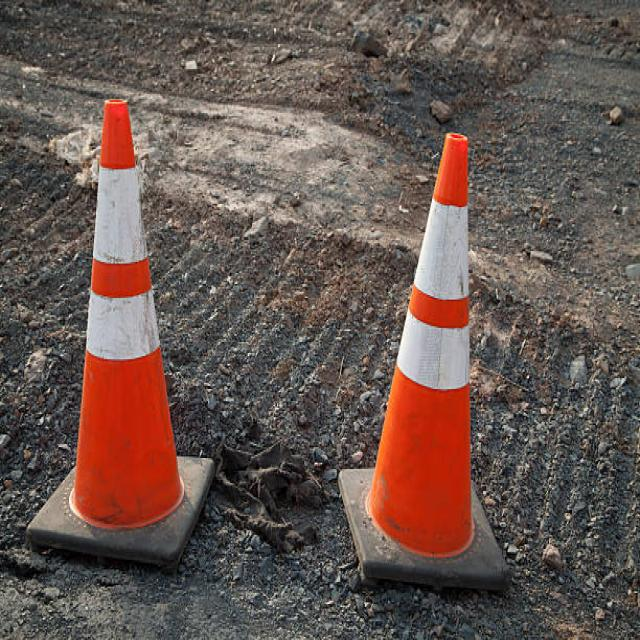Traffic Cone: (2, 54, 238, 608), (315, 85, 539, 617)
